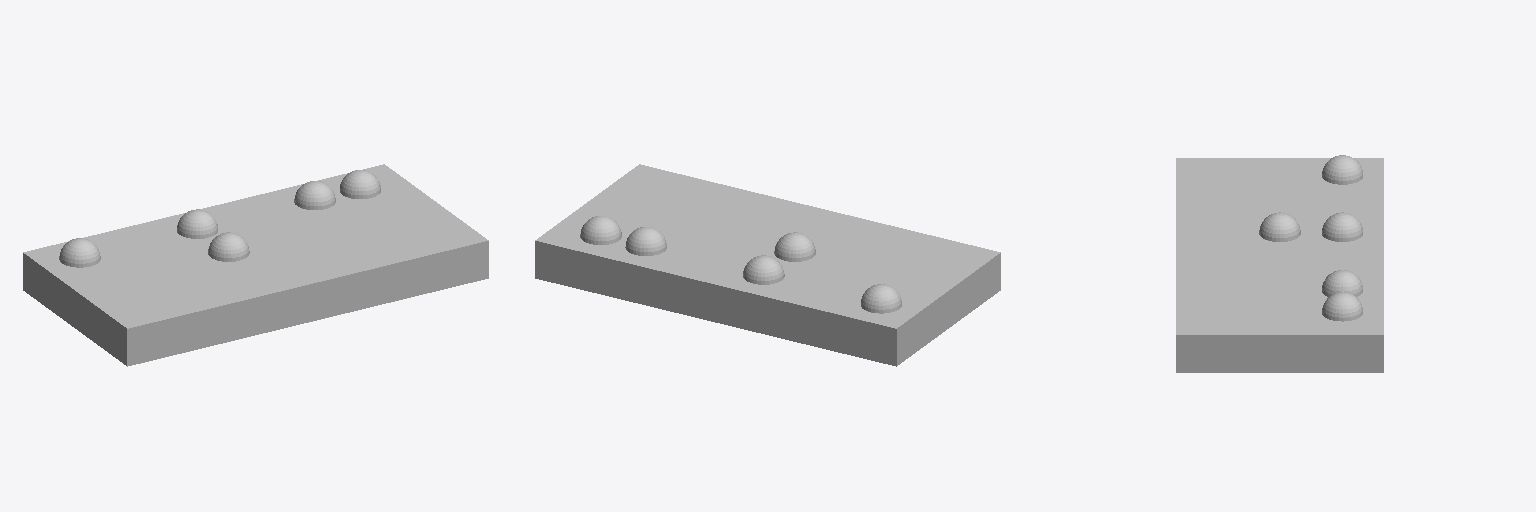
Rendered from test1_abc.obj.
The picture shows the model from 3 angles: view 1: azimuth 30°, elevation 25°; view 2: azimuth 150°, elevation 25°; view 3: azimuth 270°, elevation 25°; orthographic projection.
Parts seen in each view (by area): view 1: Cube, Sphere, Sphere.004, Sphere.001, Sphere.003, Sphere.002; view 2: Cube, Sphere.001, Sphere.004, Sphere.003, Sphere.002, Sphere; view 3: Cube, Sphere.004, Sphere, Sphere.001, Sphere.003, Sphere.002.
Part boxes in pixels (x1,y1,x2,y2): Cube: (23,164,488,366); Sphere: (59,238,100,267); Sphere.004: (208,232,249,261); Sphere.001: (177,209,217,238); Sphere.003: (340,170,380,198); Sphere.002: (294,181,335,209); Cube: (535,164,1000,366); Sphere.001: (743,255,784,284); Sphere.004: (774,232,815,261); Sphere.003: (580,216,621,244); Sphere.002: (625,227,666,255); Sphere: (861,284,901,313); Cube: (1176,158,1383,372); Sphere.004: (1259,212,1300,241); Sphere: (1322,155,1362,184); Sphere.001: (1322,212,1362,241); Sphere.003: (1322,292,1362,321); Sphere.002: (1322,270,1362,296).
Size of the model in its own units: 20 by 3 by 10.